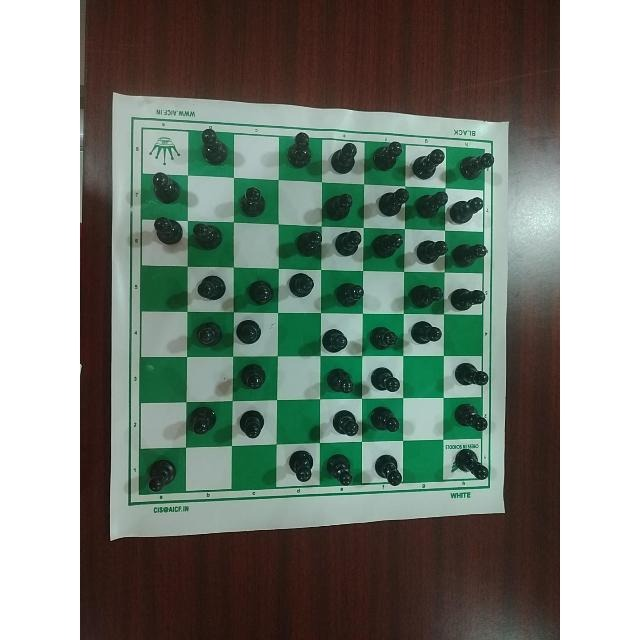black-pawn: (141, 455, 182, 495), (447, 445, 489, 484), (188, 403, 226, 445), (446, 359, 490, 395), (146, 170, 183, 208), (195, 127, 229, 168), (282, 129, 315, 171), (457, 149, 495, 185), (324, 359, 359, 398), (233, 405, 268, 444), (450, 399, 489, 434), (409, 143, 445, 180), (450, 236, 489, 270), (193, 269, 227, 308), (323, 449, 357, 488), (326, 139, 359, 179), (148, 214, 184, 250), (193, 317, 229, 353), (371, 448, 402, 489), (284, 447, 317, 485), (189, 218, 224, 253), (451, 193, 487, 227), (369, 136, 402, 173), (410, 235, 448, 267), (369, 230, 403, 265), (234, 319, 270, 352), (364, 321, 400, 354), (367, 363, 403, 396), (329, 409, 363, 443), (238, 186, 270, 222), (407, 319, 444, 350), (447, 283, 487, 311), (406, 279, 444, 308), (416, 190, 449, 223), (376, 185, 410, 217), (290, 227, 322, 260), (368, 404, 400, 437), (238, 362, 272, 392), (242, 275, 274, 306), (322, 192, 356, 221), (332, 277, 366, 306), (321, 320, 350, 354), (335, 226, 363, 261), (287, 270, 317, 302)
